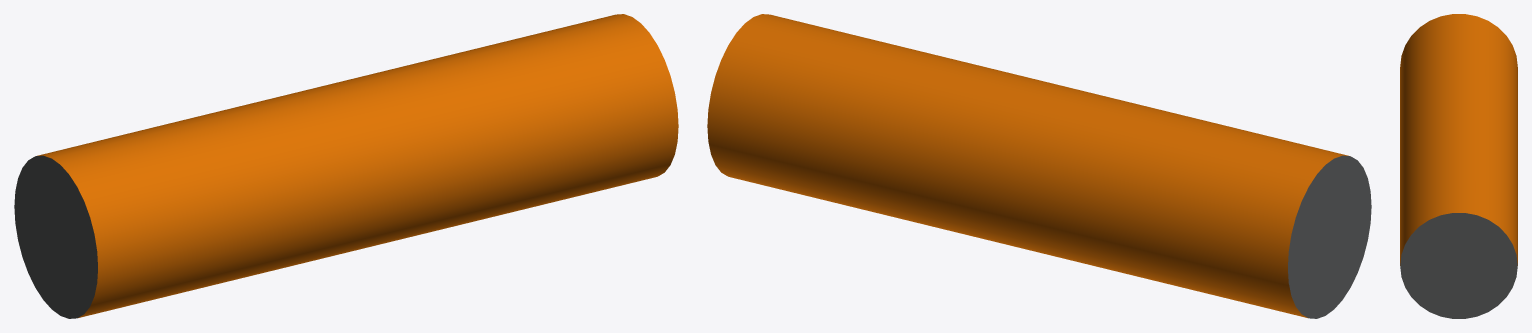
3 views of the same model, side by side, from view 1: azimuth 30°, elevation 25°; view 2: azimuth 150°, elevation 25°; view 3: azimuth 270°, elevation 25° (orthographic). The views are drawn at different scales.
Visible parts, largest first — view 1: a2_LOD0, a2_col; view 2: a2_LOD0, a2_col; view 3: a2_LOD0, a2_col.
Boxes of the visible parts, box(x1,y1,x2,y2) form: a2_LOD0: box(14, 14, 678, 318); a2_col: box(15, 155, 97, 318); a2_LOD0: box(707, 14, 1371, 318); a2_col: box(1291, 179, 1371, 318); a2_LOD0: box(1400, 14, 1517, 318); a2_col: box(1401, 215, 1517, 316).
Size of what is drawn, in the model's own units: 48 by 11.93 by 12.
